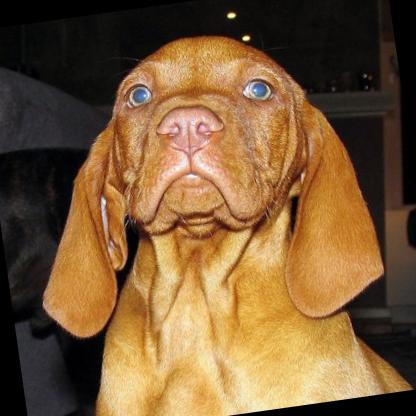vizsla: (3, 7, 412, 416)
